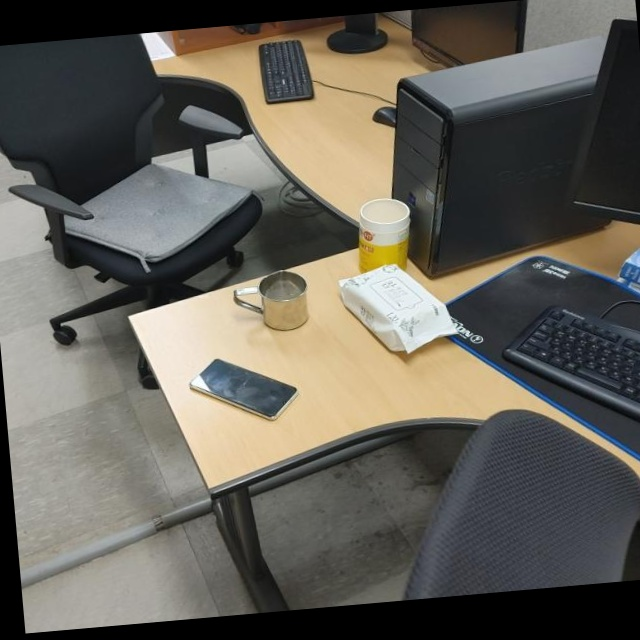cup: (231, 269, 313, 337)
phone: (189, 349, 305, 428)
